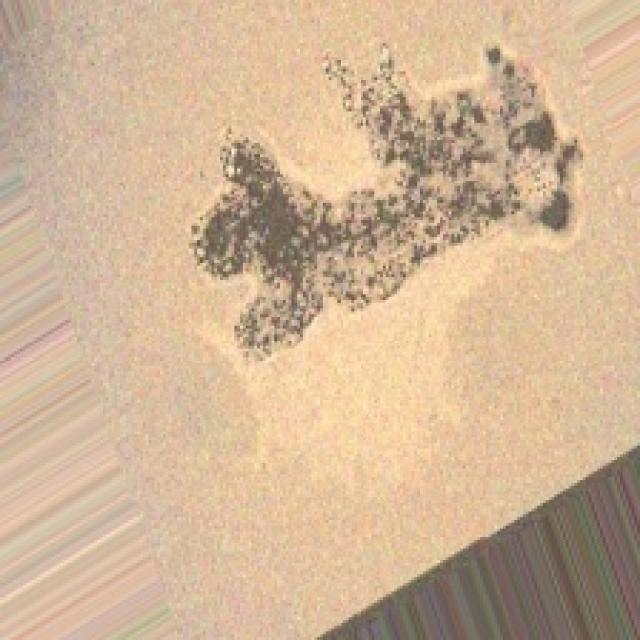Amoeba: (186, 34, 583, 363)
